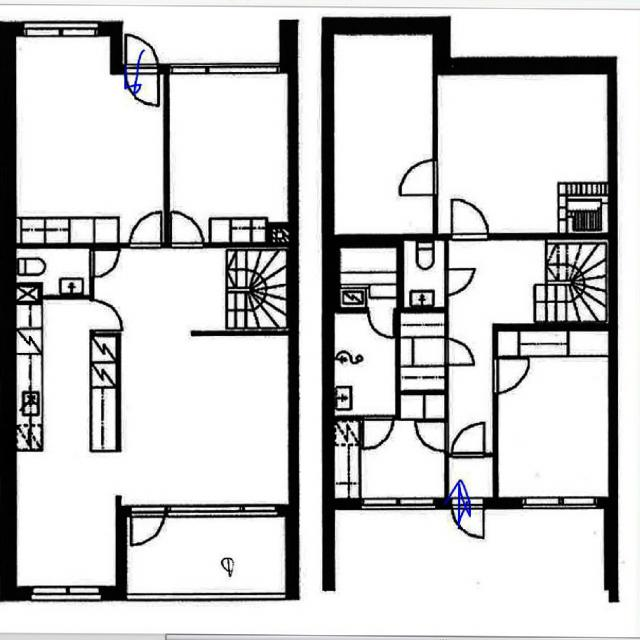door: (132, 503, 165, 549), (452, 197, 488, 239), (397, 160, 438, 195), (126, 32, 158, 74), (126, 63, 158, 105), (453, 497, 484, 539), (493, 359, 532, 392), (131, 210, 162, 247), (452, 421, 484, 456), (414, 420, 450, 451), (172, 211, 203, 247), (90, 300, 124, 330), (363, 415, 393, 448), (368, 307, 394, 338), (445, 338, 475, 364), (445, 268, 475, 294), (90, 250, 120, 276)
